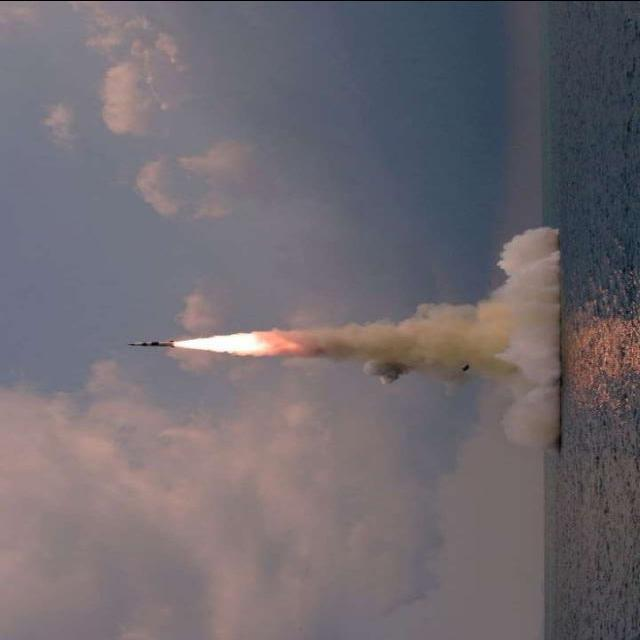Missile: (124, 338, 180, 348)
